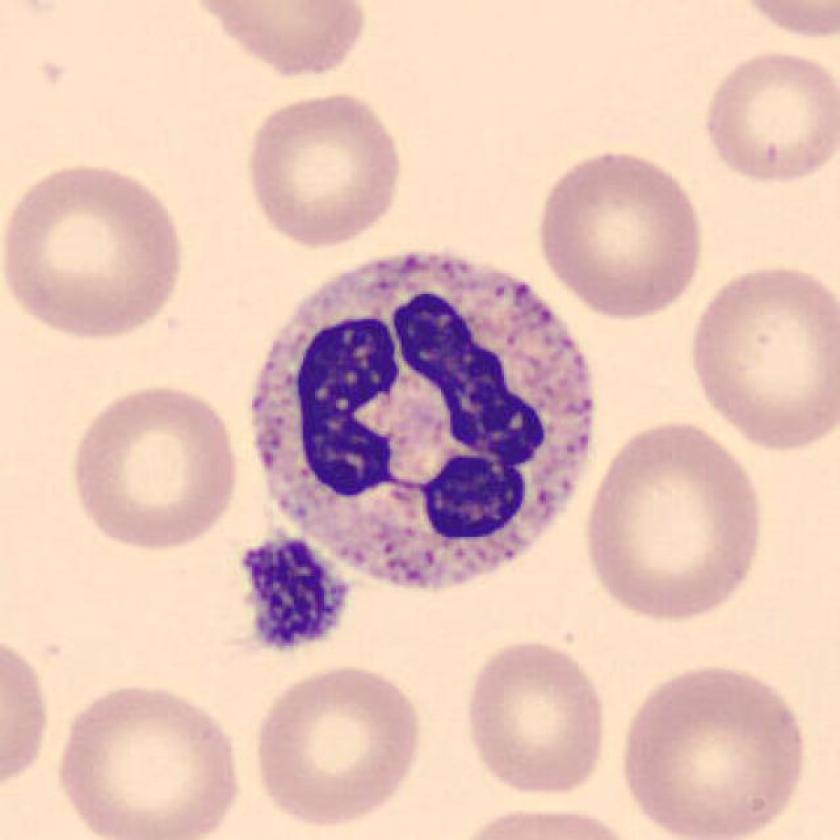neutrophil: (248, 252, 596, 593)
